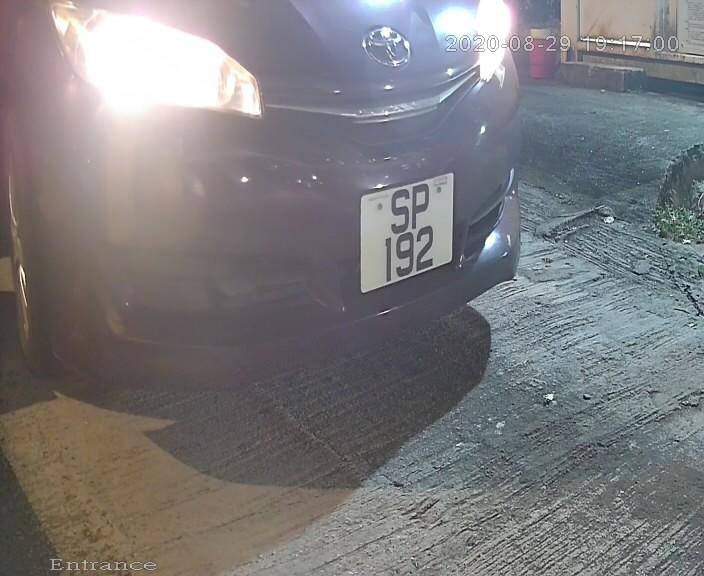License Plate: (349, 160, 459, 299)
